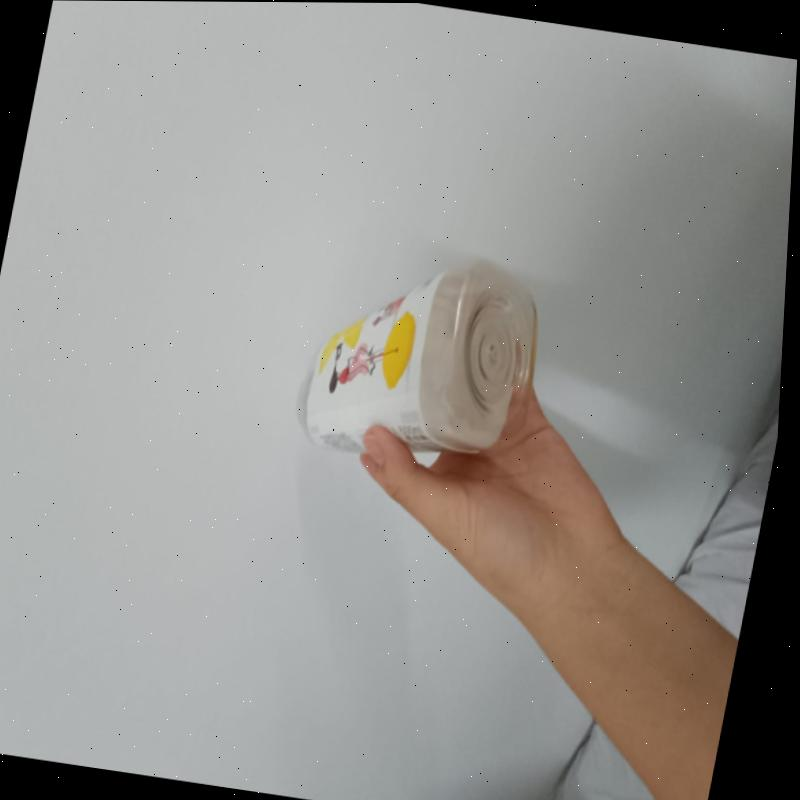botella: (290, 239, 559, 476)
